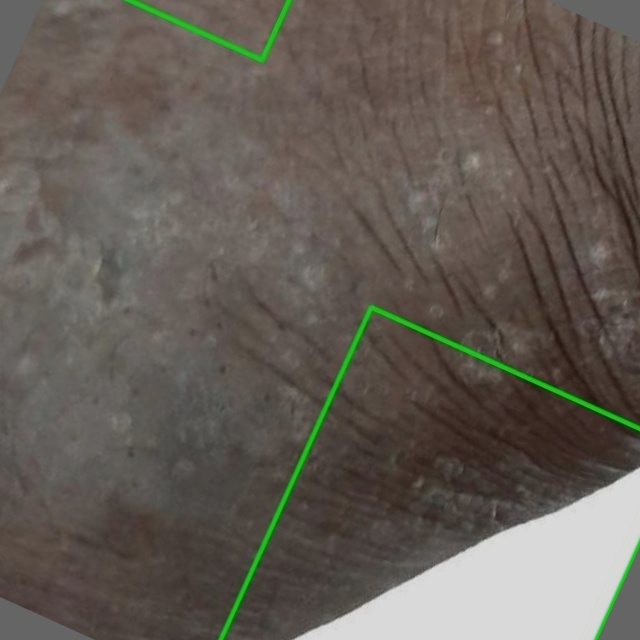Contact Dermatitis: (220, 307, 639, 639)
